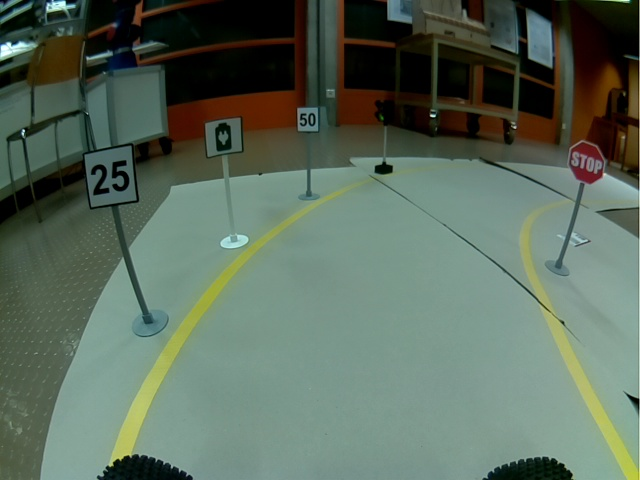battery: (204, 116, 244, 159)
speed25: (83, 143, 139, 209)
speed50: (296, 107, 320, 133)
stop: (567, 141, 606, 184)
trafficLightGreen: (374, 100, 395, 123)
